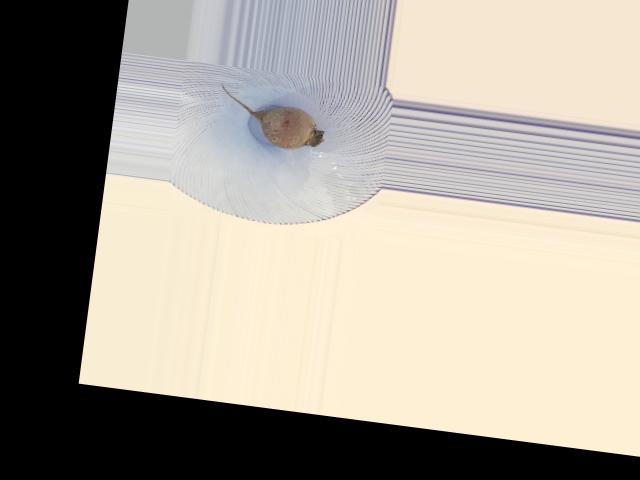beet: (215, 83, 329, 152)
